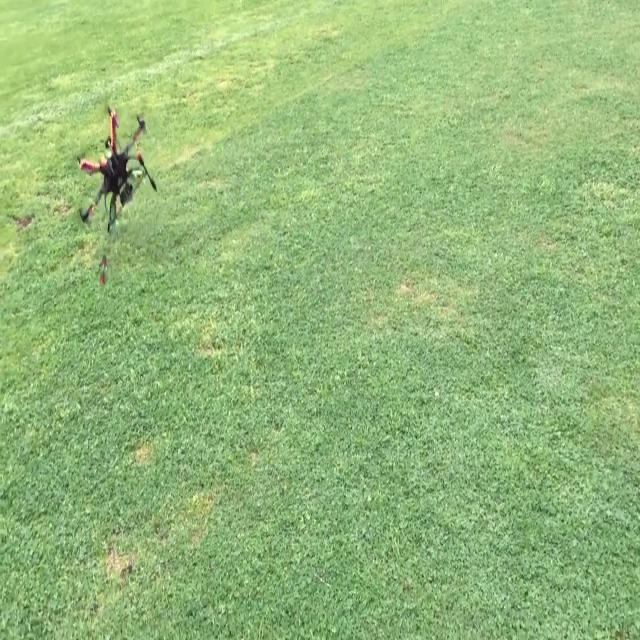drone: (64, 109, 160, 235)
